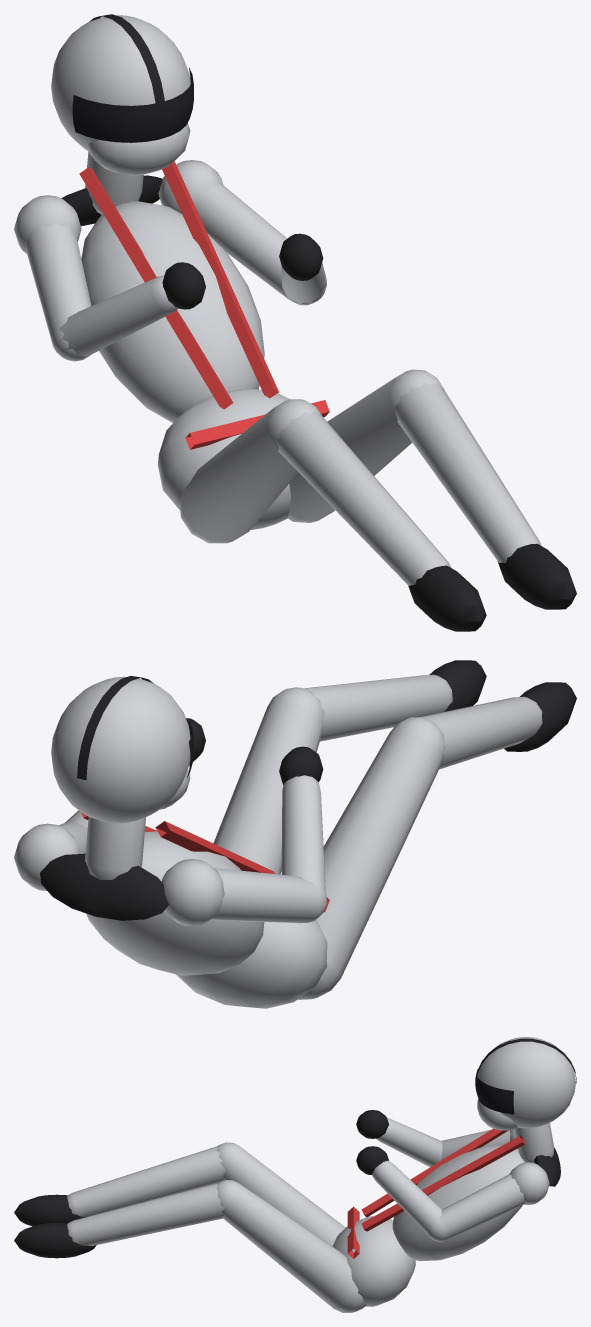
File: murcetes_w17_driver.glb
3 views of the same model, one above another, from view 1: azimuth 30°, elevation 25°; view 2: azimuth 150°, elevation 25°; view 3: azimuth 270°, elevation 25° (orthographic). The views are drawn at different scales.
Parts seen in each view (by area): view 1: murcetes_w17_driver; view 2: murcetes_w17_driver; view 3: murcetes_w17_driver.
Part boxes in pixels (x1=…): murcetes_w17_driver: x1=14, y1=14, x2=576, y2=631; murcetes_w17_driver: x1=14, y1=660, x2=576, y2=1008; murcetes_w17_driver: x1=14, y1=1037, x2=576, y2=1312.
Size of the model in its own units: 0.5976 by 0.8682 by 1.7.
